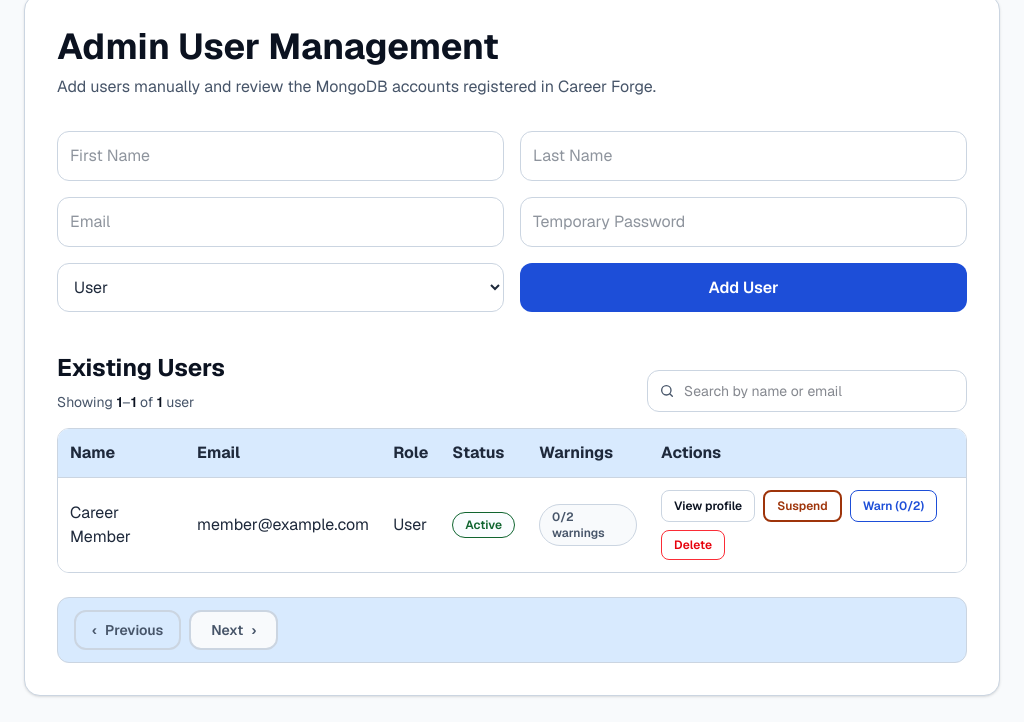
it: AdminUsersClient › suspends an account and refreshes the restricted register
Click the button with aria-label "Suspend member@example.com" at coordinates (802, 506), box [763,490,842,522]
(page scrolled)
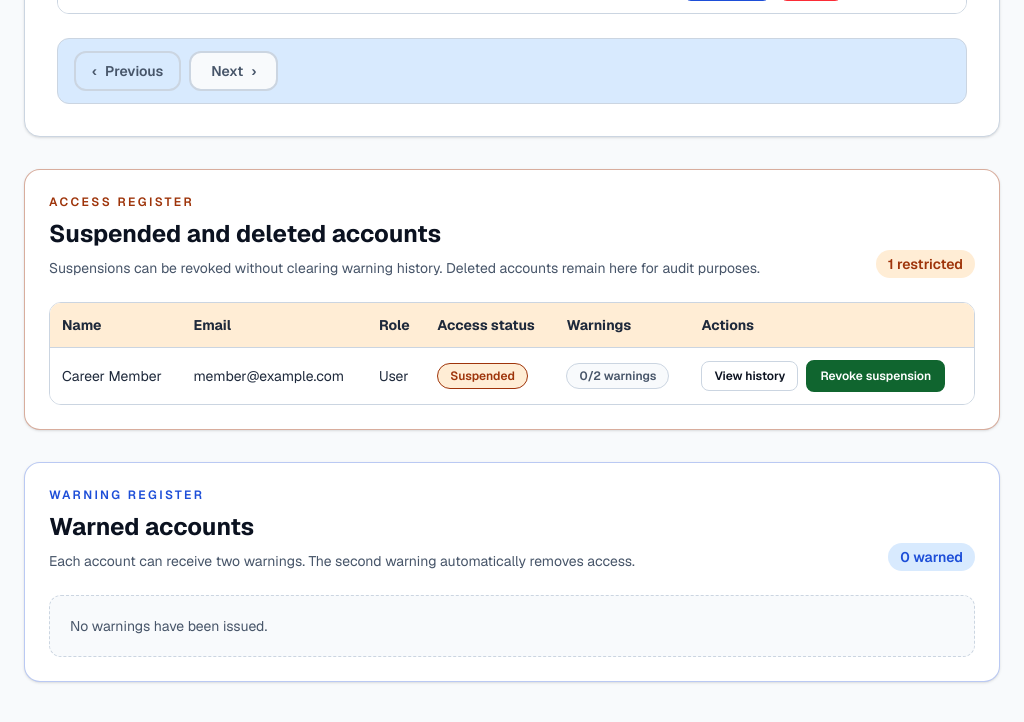
Result: the button "Revoke suspension" is shown at [806,360,945,392]
